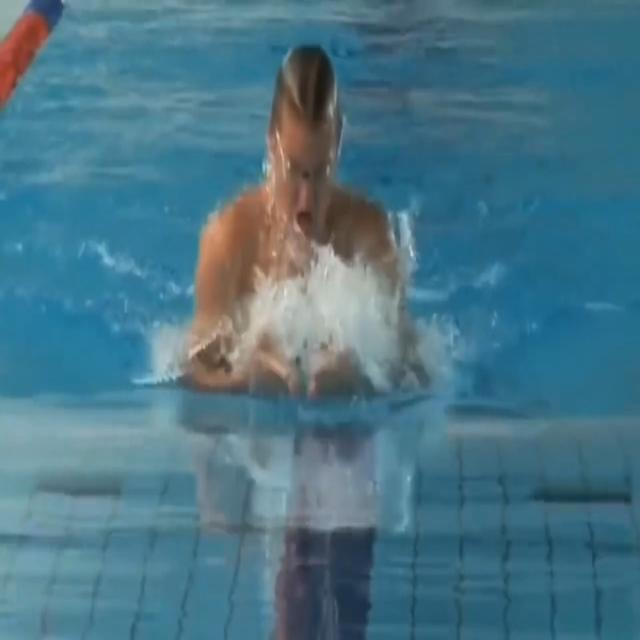Swimming: (180, 42, 433, 412)
